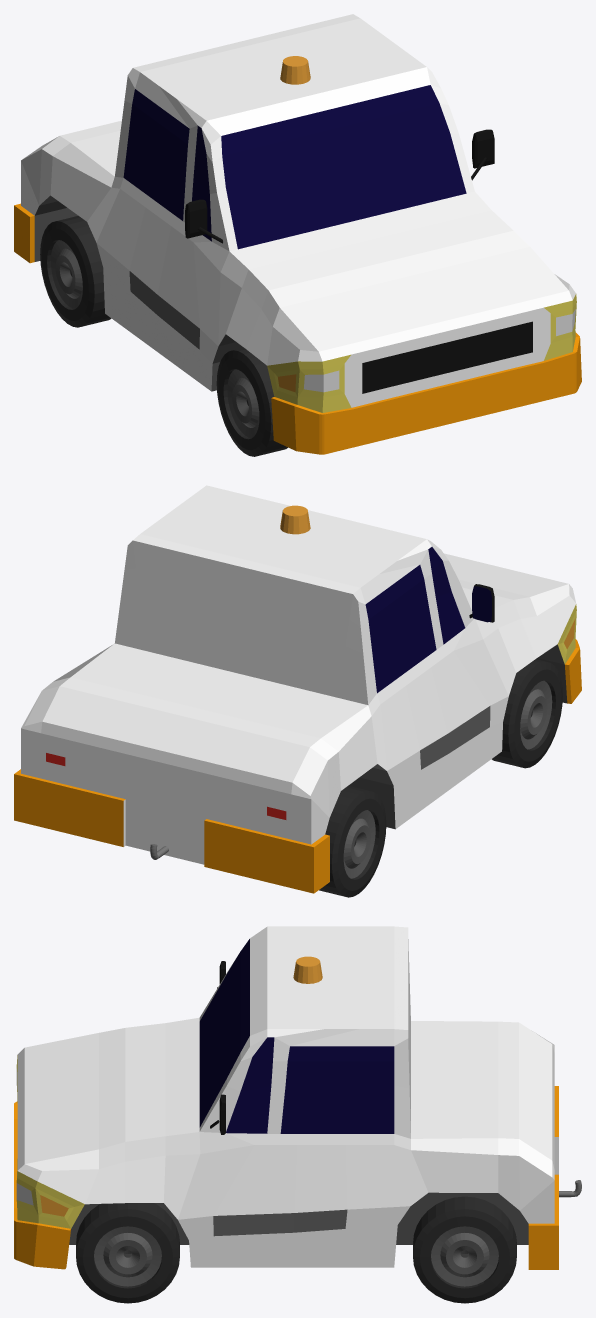
Rendered from BaggageTug.fbx.
The picture shows the model from 3 angles, top to bottom: view 1: azimuth 30°, elevation 25°; view 2: azimuth 150°, elevation 25°; view 3: azimuth 270°, elevation 25°; orthographic projection. The views are drawn at different scales.
Visible parts, largest first — view 1: BaggageTug, BaggageTugBackRight, BaggageTugFrontRight; view 2: BaggageTug, BaggageTugBackRight, BaggageTugFrontRight; view 3: BaggageTug, BaggageTugBackLeft, BaggageTugFrontLeft.
Boxes of the visible parts, bbox=[...] form: BaggageTug: bbox=[14, 14, 581, 454]; BaggageTugBackRight: bbox=[40, 215, 111, 327]; BaggageTugFrontRight: bbox=[216, 347, 287, 456]; BaggageTug: bbox=[14, 485, 581, 893]; BaggageTugBackRight: bbox=[319, 785, 386, 897]; BaggageTugFrontRight: bbox=[491, 659, 562, 768]; BaggageTug: bbox=[14, 926, 581, 1269]; BaggageTugBackLeft: bbox=[413, 1196, 516, 1303]; BaggageTugFrontLeft: bbox=[76, 1203, 179, 1303].
Bounding box in the file's own units: 1.74 × 2.92 × 1.55.
